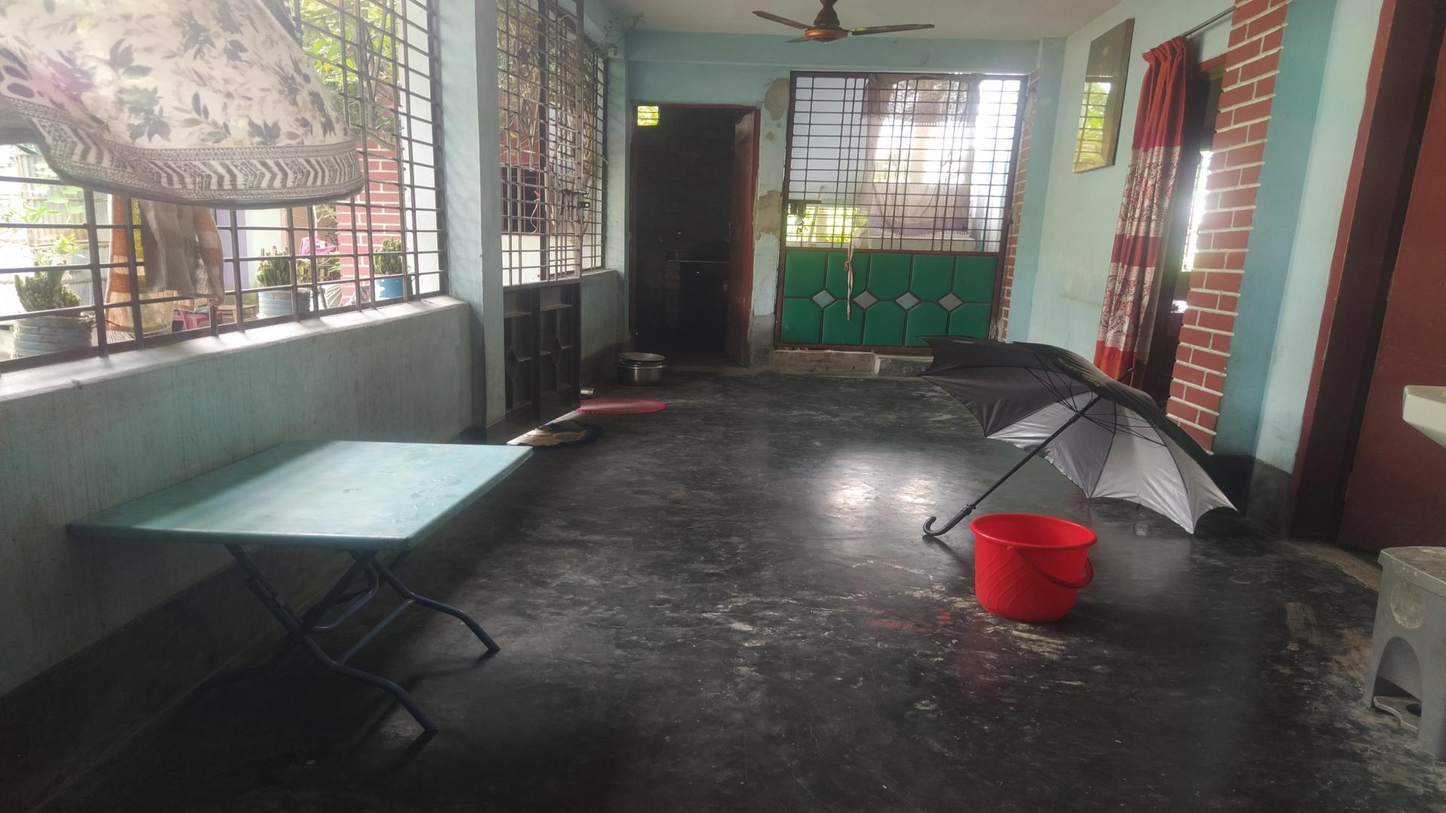Bucket: (972, 514, 1095, 623)
Door: (795, 74, 1001, 358), (629, 101, 752, 364)
Table: (69, 449, 532, 735)
Umbrella: (911, 327, 1237, 540)
